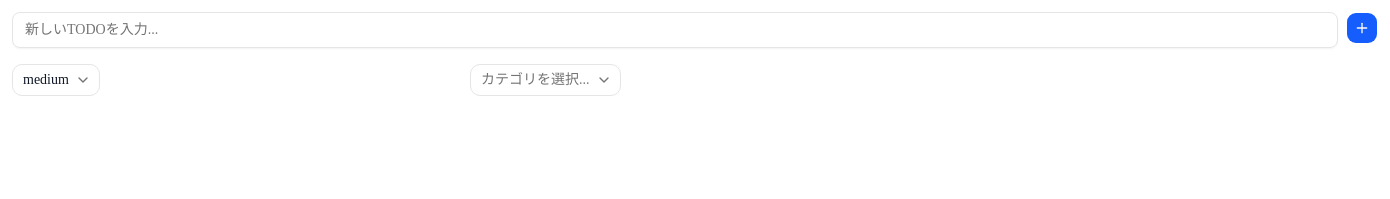
Test: TodoForm › 既存カテゴリが渡された場合はカテゴリ選択肢に表示される
// 2番目のセレクト（カテゴリ）を開く
Click the dropdown labelled "カテゴリを選択... ▼". click: (545, 80)
box: [470,64,620,96]
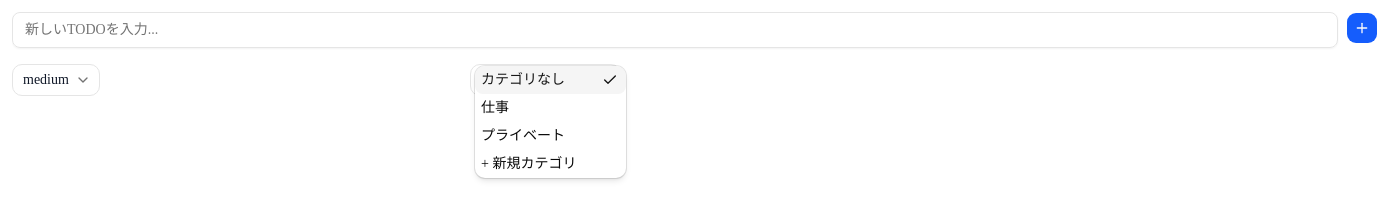
Check: the text "仕事" is shown, box [481,100,509,115]
Check: the text "プライベート" is shown, box [481,128,565,143]
